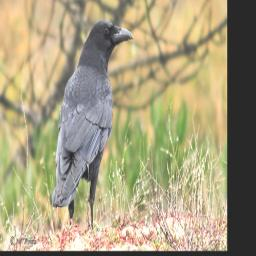Crow: (50, 19, 133, 234)
